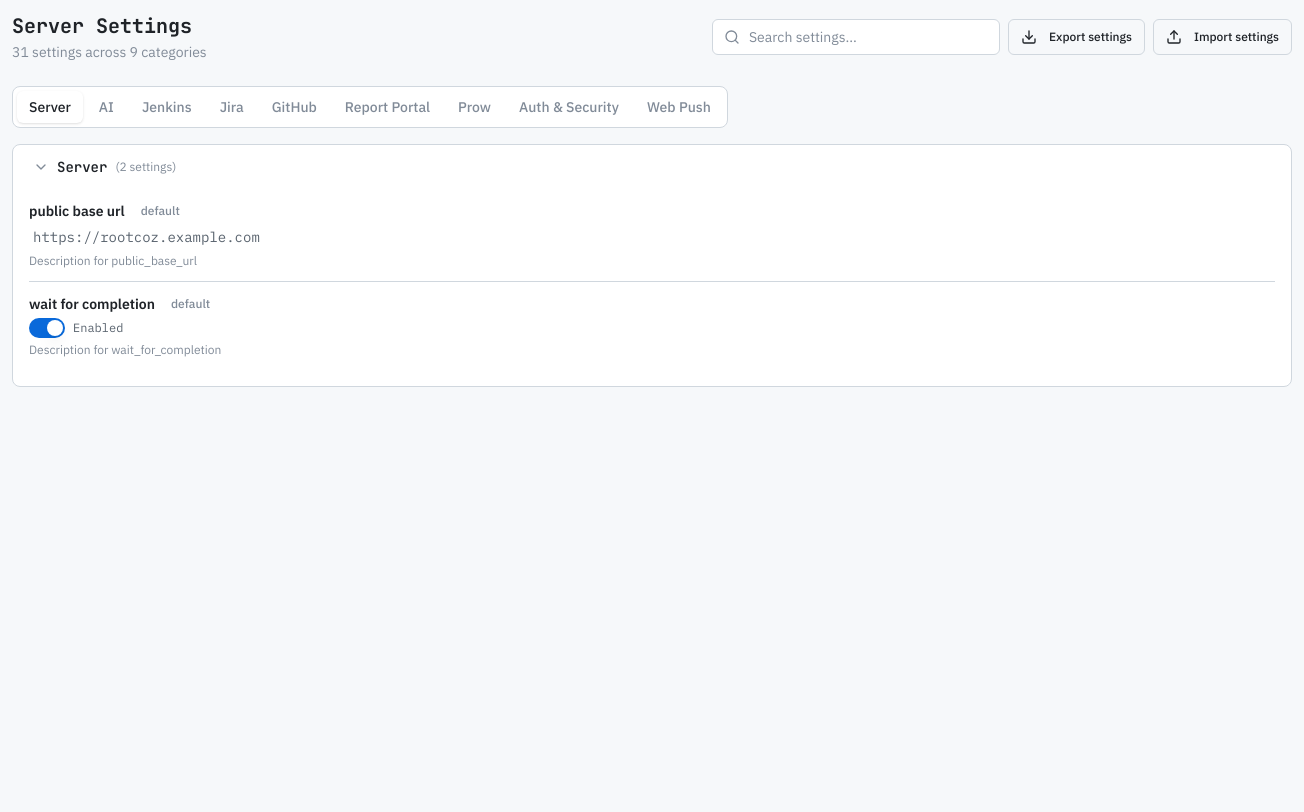
Scenario: ServerSettingsPage Jira auth method selection › shows the disabled hint when no method is selected
The width and height of the screenshot is (1304, 812).
Click the tab "Jira": (232, 107) [208,91,256,123]
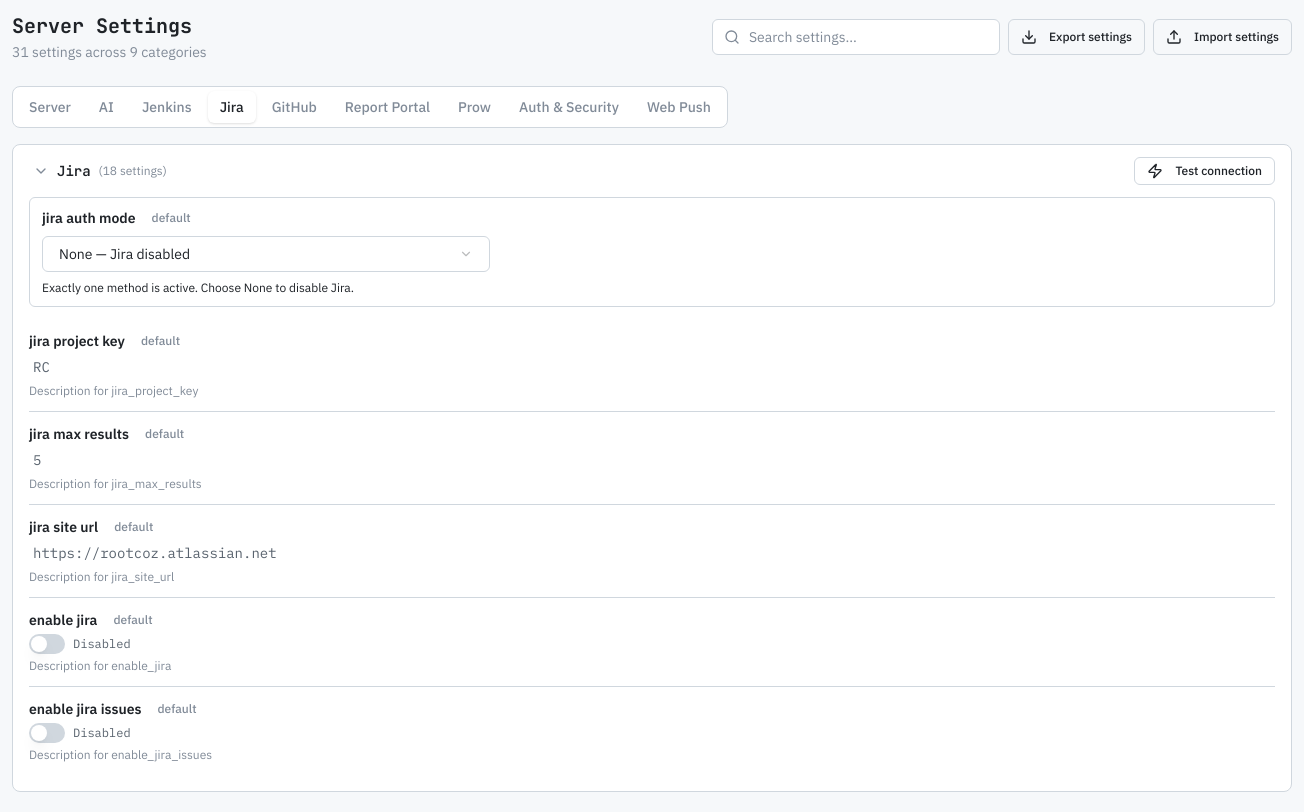
Check: the dropdown named "Select Jira auth method" does not show "Email + API token", box [42,236,490,272]
Check: the dropdown named "Select Jira auth method" reads "None — Jira disabled", box [42,236,490,272]
